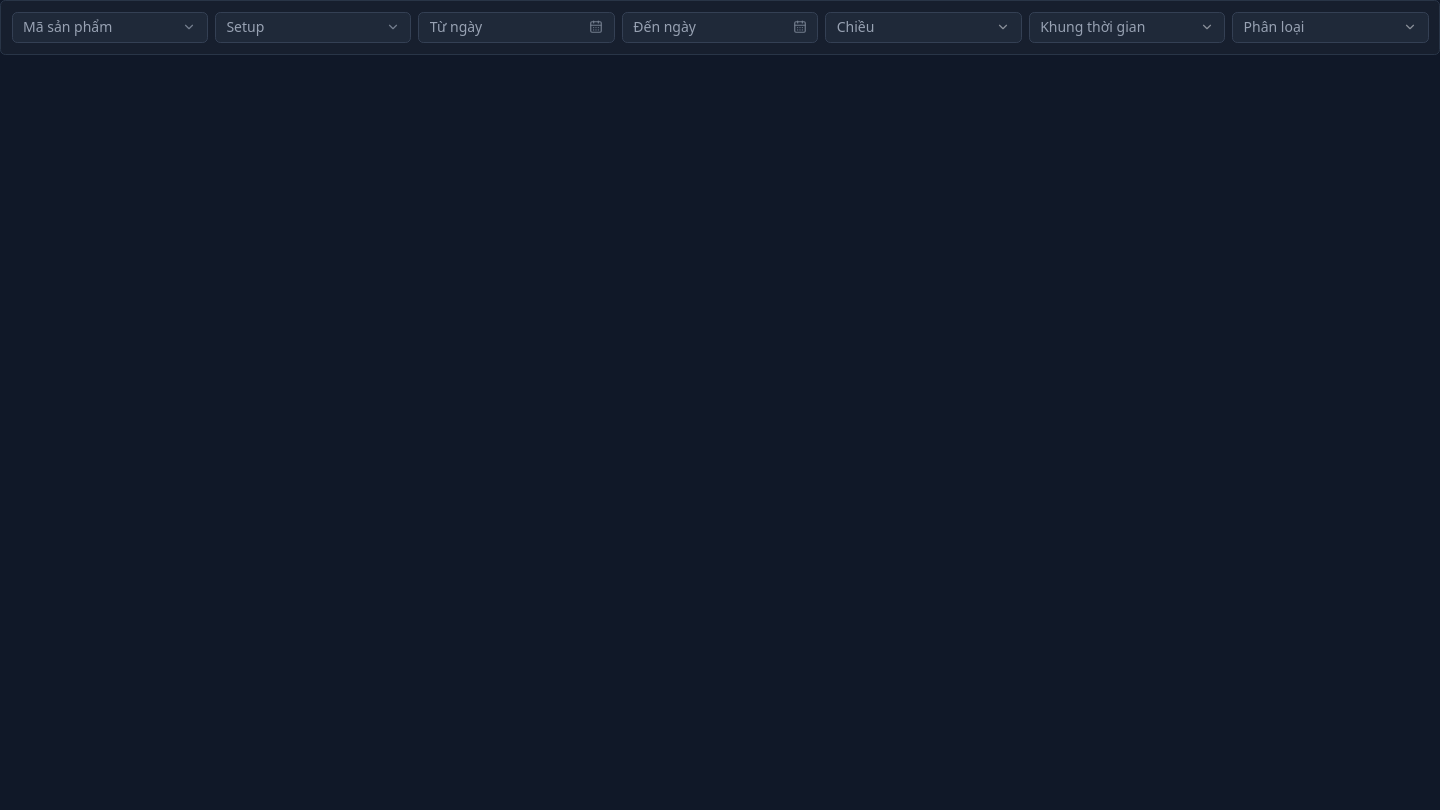
it: account chưa có lệnh nào thì vẫn là 'không tìm thấy', không phải lỗi
Click the dropdown labelled "Mã sản phẩm": [110, 27] box [12,12,208,43]
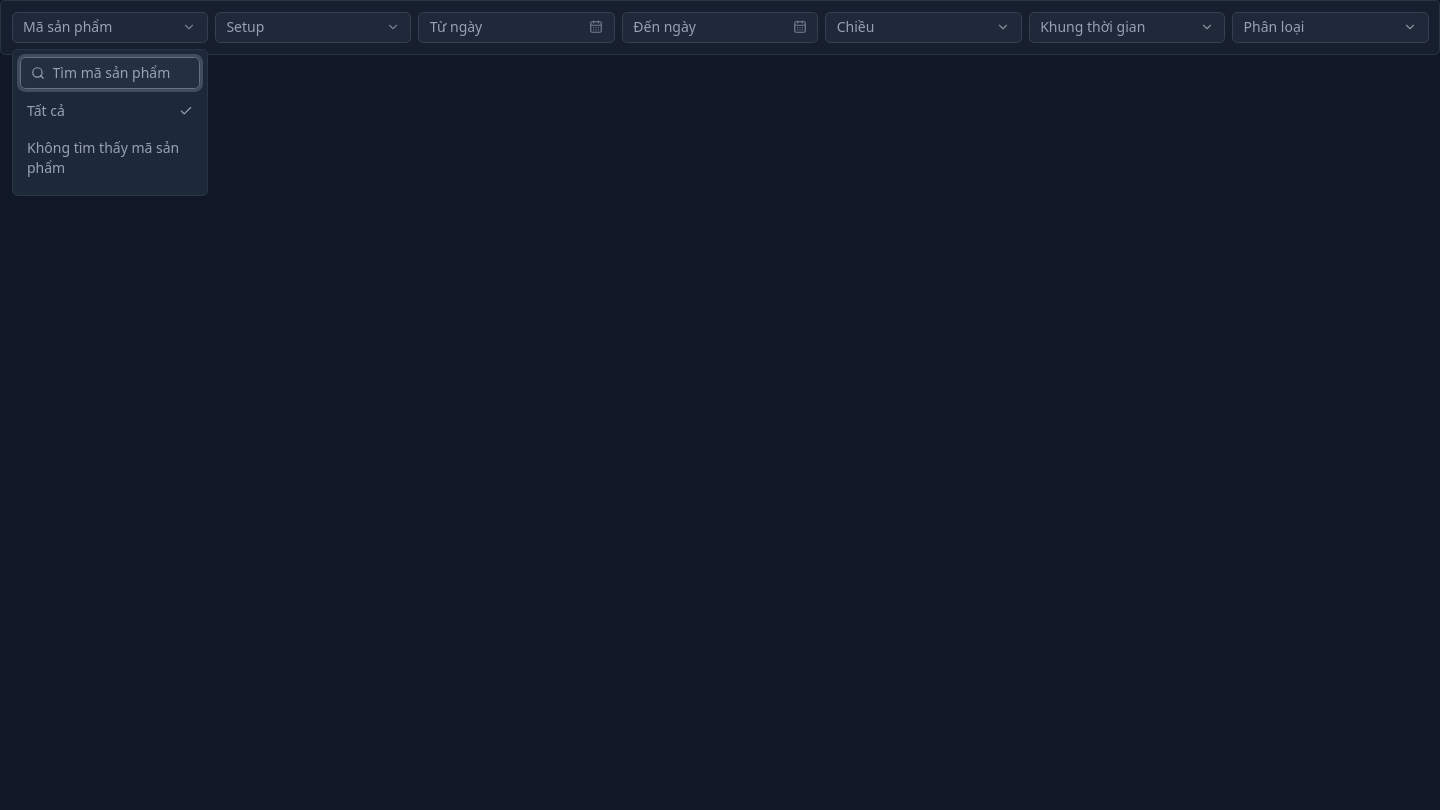
Now the text "Không tìm thấy mã sản phẩm" is shown, box [27,138,179,176]
